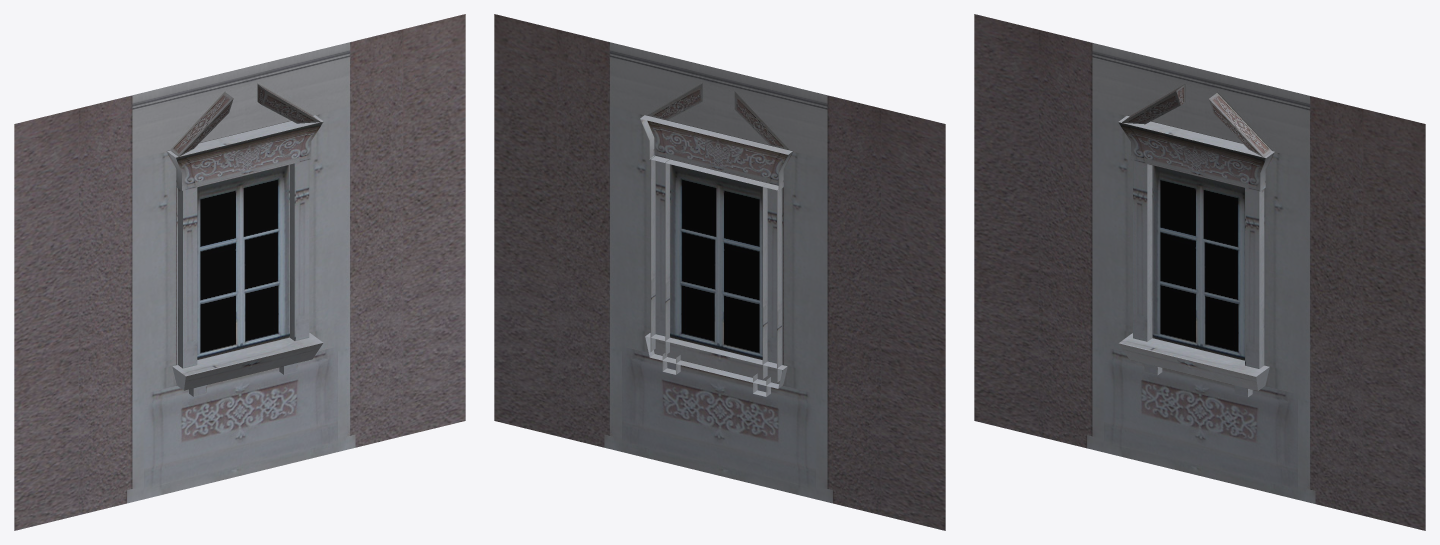
The model's file is win_breit.obj.
3 views of the same model, side by side, from view 1: azimuth 30°, elevation 25°; view 2: azimuth 150°, elevation 25°; view 3: azimuth 330°, elevation 25° (orthographic).
Parts seen in each view (by area): view 1: polySurface166; view 2: polySurface166; view 3: polySurface166.
Boxes of the visible parts, bbox=[...] form: polySurface166: bbox=[14, 14, 465, 530]; polySurface166: bbox=[494, 14, 945, 530]; polySurface166: bbox=[974, 14, 1425, 530].
Bounding box in the file's own units: 1.39 × 1.2 × 0.0995.
1 material, 1 textured.
